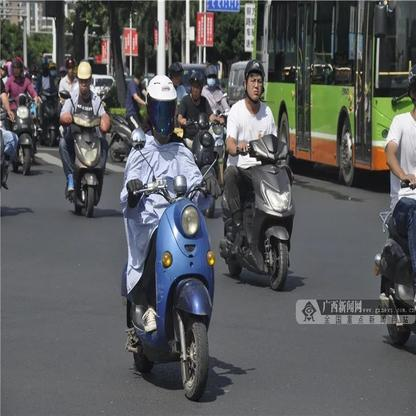target: (121, 74, 223, 402), (222, 60, 301, 291), (57, 61, 113, 217)
